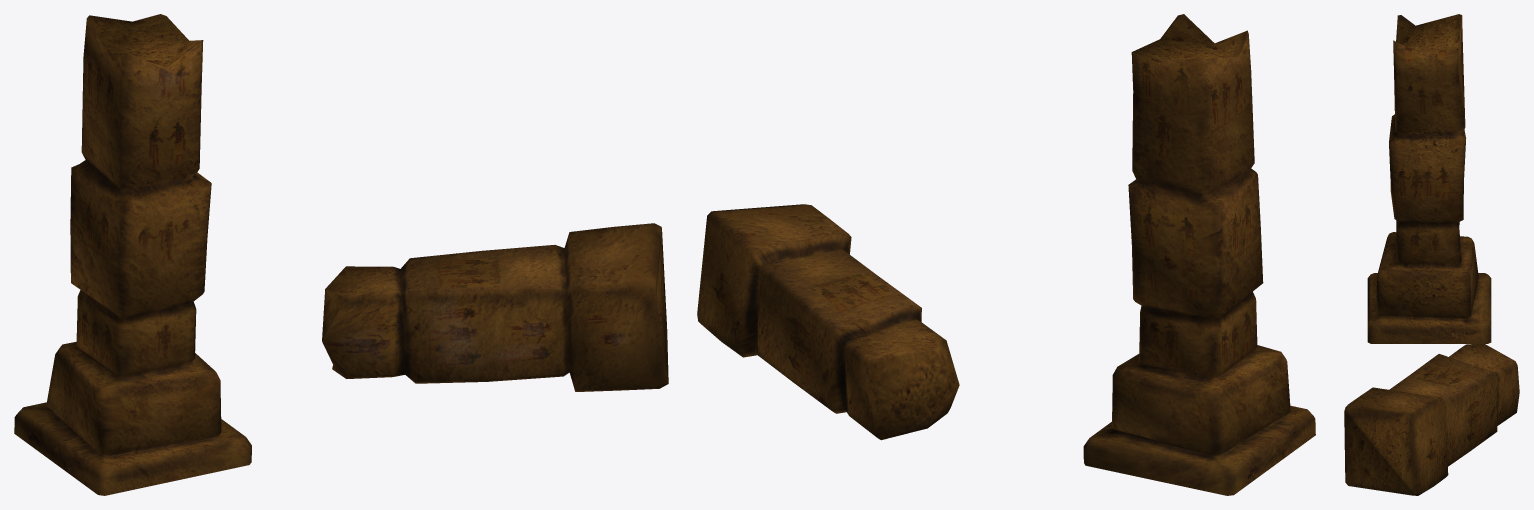
The model's file is PillarBroken.fbx.
The picture shows the model from 3 angles, left to right: view 1: azimuth 30°, elevation 25°; view 2: azimuth 150°, elevation 25°; view 3: azimuth 270°, elevation 25°; orthographic projection. The views are drawn at different scales.
Visible parts, largest first — view 1: Pillar.006; view 2: Pillar.006; view 3: Pillar.006.
Part boxes in pixels (x1,y1,x2,y2): Pillar.006: [14, 14, 668, 495]; Pillar.006: [697, 14, 1315, 495]; Pillar.006: [1344, 14, 1519, 495].
Bounding box in the file's own units: 196 × 136 × 70.8.
